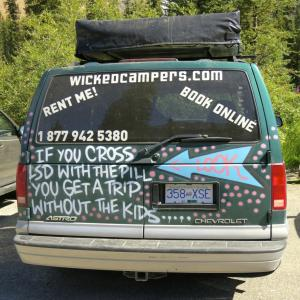Vehicle-registration-plate: (167, 187, 215, 214)
